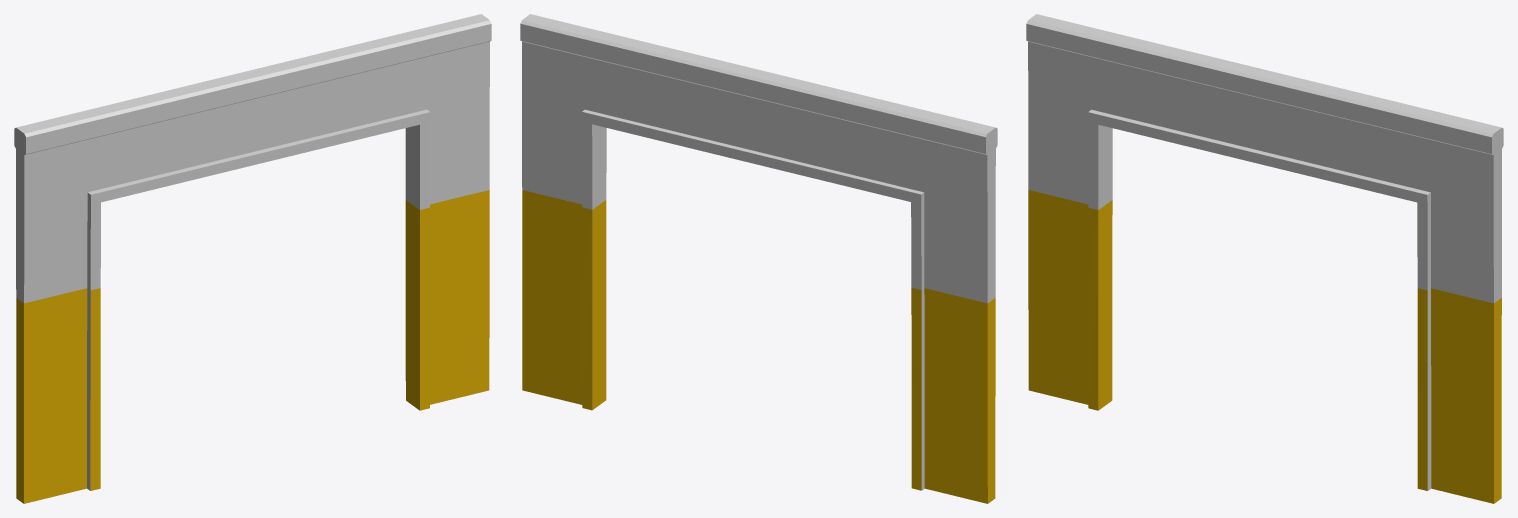
Rendered from wall_24.fbx.
The picture shows the model from 3 angles, left to right: view 1: azimuth 30°, elevation 25°; view 2: azimuth 150°, elevation 25°; view 3: azimuth 330°, elevation 25°; orthographic projection.
Parts seen in each view (by area): view 1: WALL_4.008; view 2: WALL_4.008; view 3: WALL_4.008.
Part boxes in pixels (x1=…): WALL_4.008: x1=14, y1=14, x2=491, y2=503; WALL_4.008: x1=520, y1=14, x2=997, y2=503; WALL_4.008: x1=1026, y1=14, x2=1503, y2=503.
Size of the model in its own units: 6.34 by 4.83 by 0.3452.
